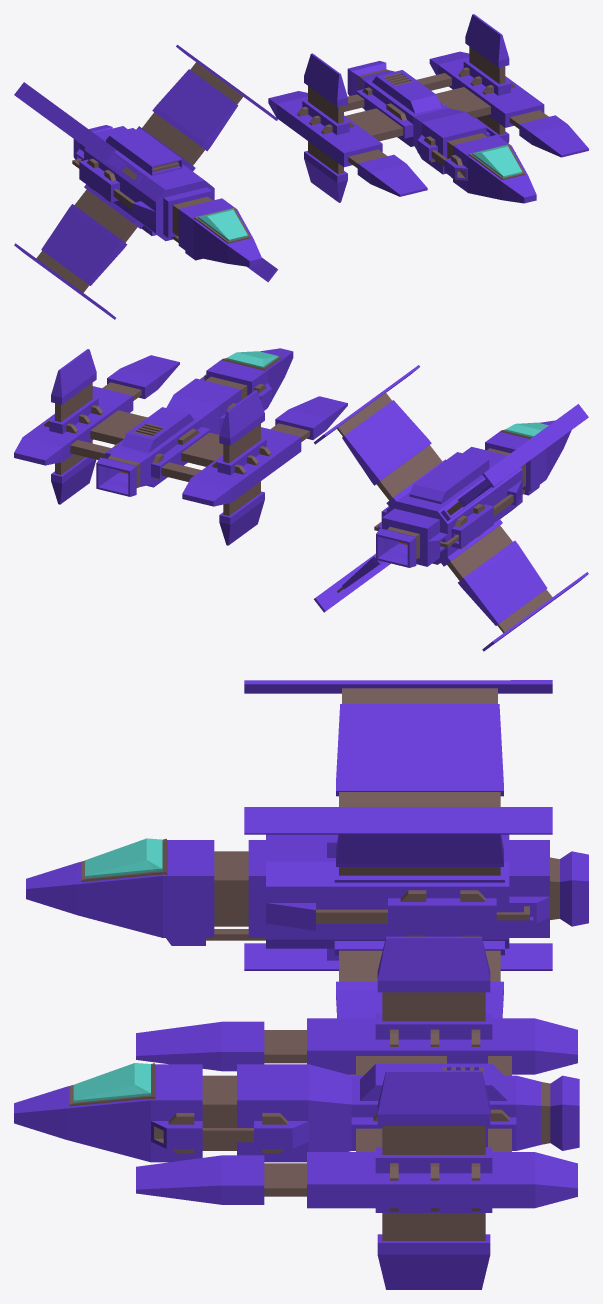
File: EnemyShips.fbx
3 renders of one model, top to bottom at view 1: azimuth 30°, elevation 25°; view 2: azimuth 150°, elevation 25°; view 3: azimuth 270°, elevation 25°, orthographic. The views are drawn at different scales.
Visible parts, largest first — view 1: Fighter_3, Fighter_2; view 2: Fighter_3, Fighter_2; view 3: Fighter_3, Fighter_2.
Boxes of the visible parts, bbox=[...] form: Fighter_3: bbox=[268, 14, 588, 203]; Fighter_2: bbox=[14, 44, 277, 319]; Fighter_3: bbox=[14, 348, 347, 545]; Fighter_2: bbox=[314, 365, 588, 651]; Fighter_3: bbox=[14, 936, 579, 1289]; Fighter_2: bbox=[26, 680, 588, 1075].
Bounding box in the file's own units: 105 × 37.49 × 67.18.
